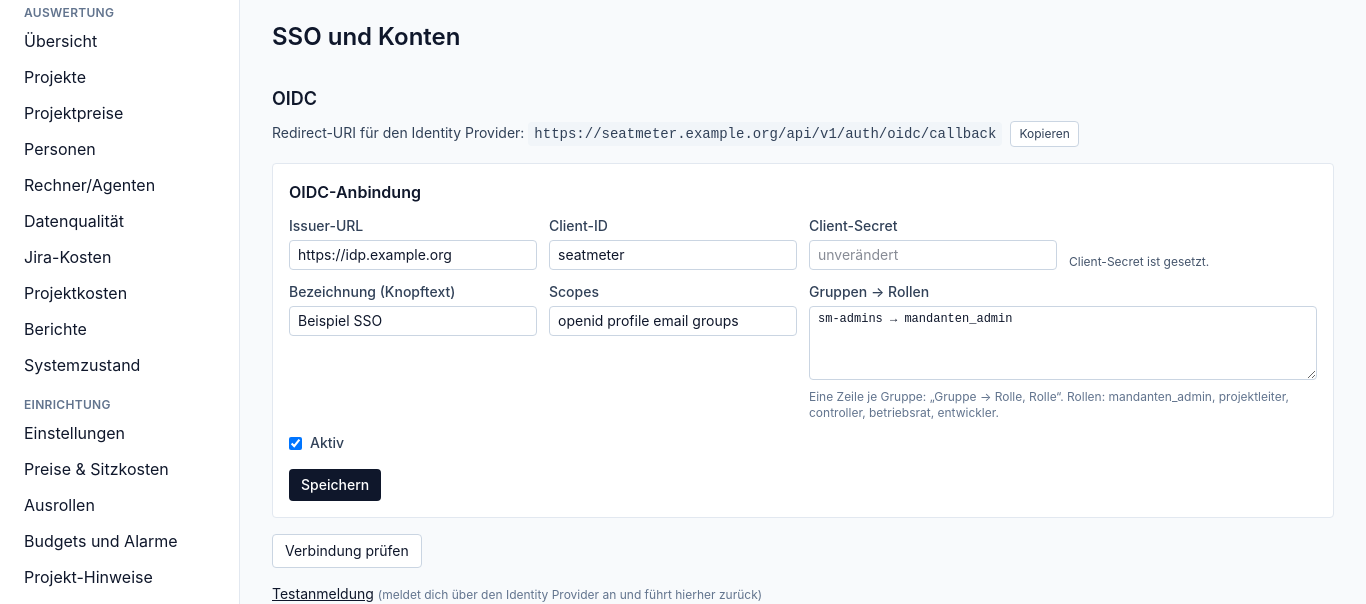
SSO und Konten › OIDC speichern: Secret geht hin, kommt nicht zurück; Verbindung prüfen zeigt Endpunkte
Expected: the text "Client-Secret ist gesetzt." is shown, [1069,254,1209,269]
Expected: the text "https://seatmeter.example.org/api/v1/auth/oidc/callback" is shown, [528,122,1002,146]
Click the button "Speichern" at (335, 485), box [289,469,381,501]
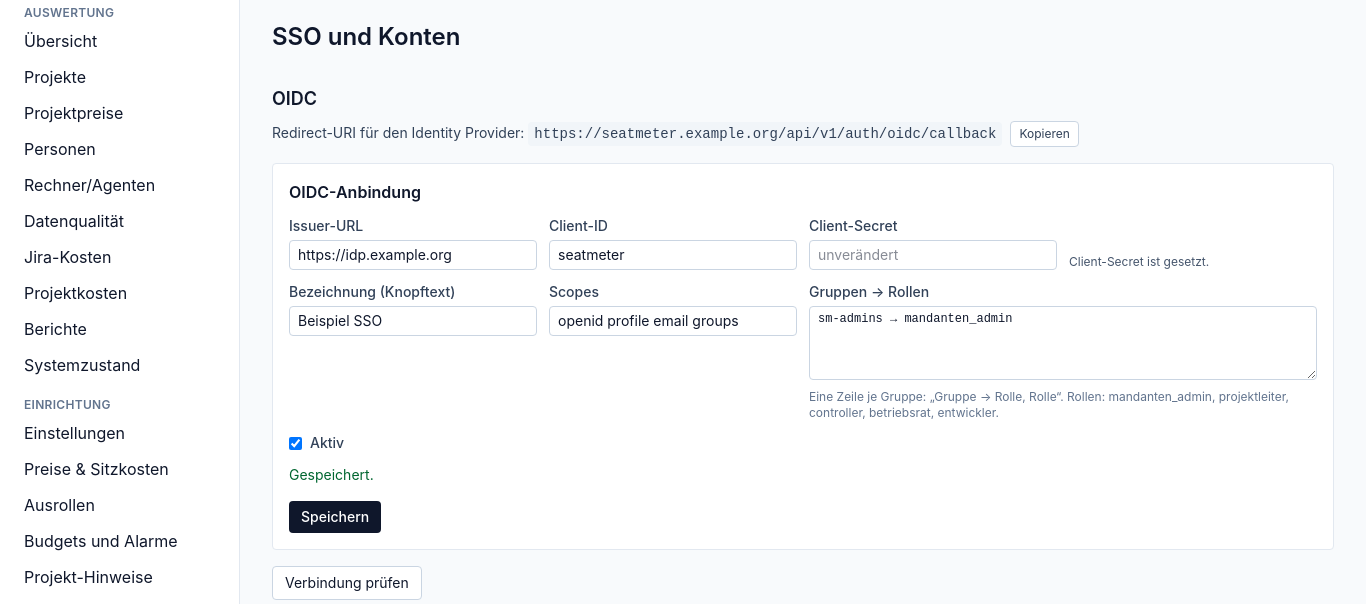
Result: the text "Gespeichert." is shown at [289,466,374,483]
Type "neues-secret" into the password field labelled "Client-Secret" at (933, 255), box [809,240,1057,270]
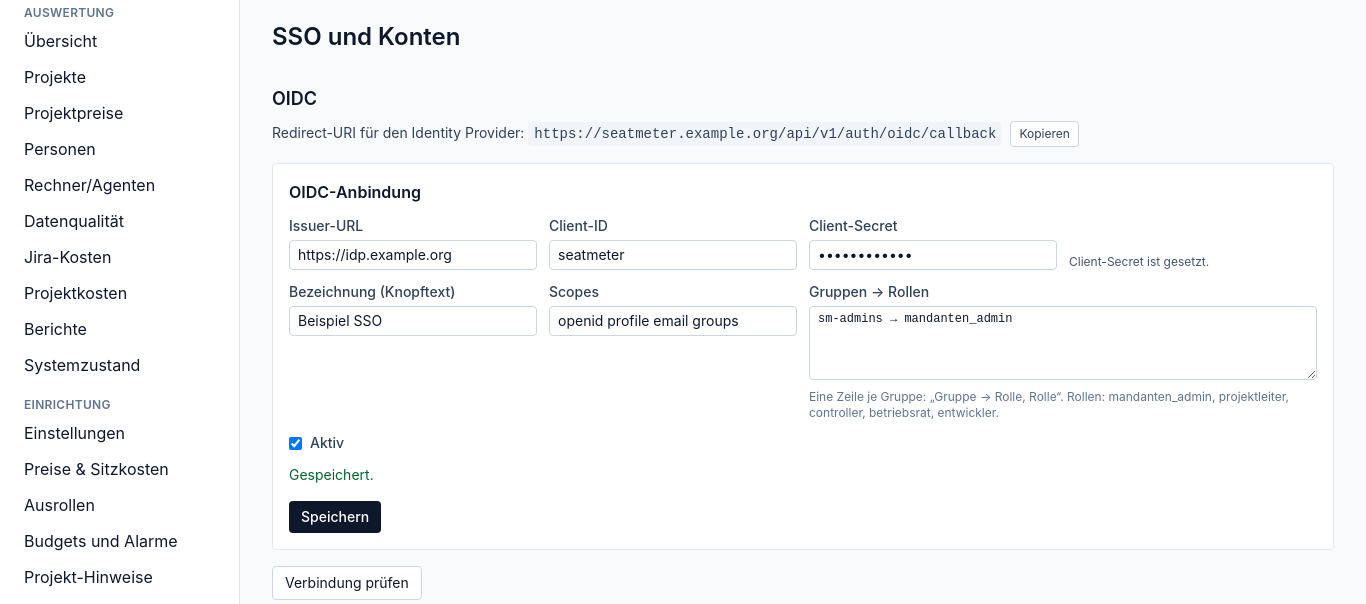
Click the button "Speichern" at (335, 517), box [289,501,381,533]
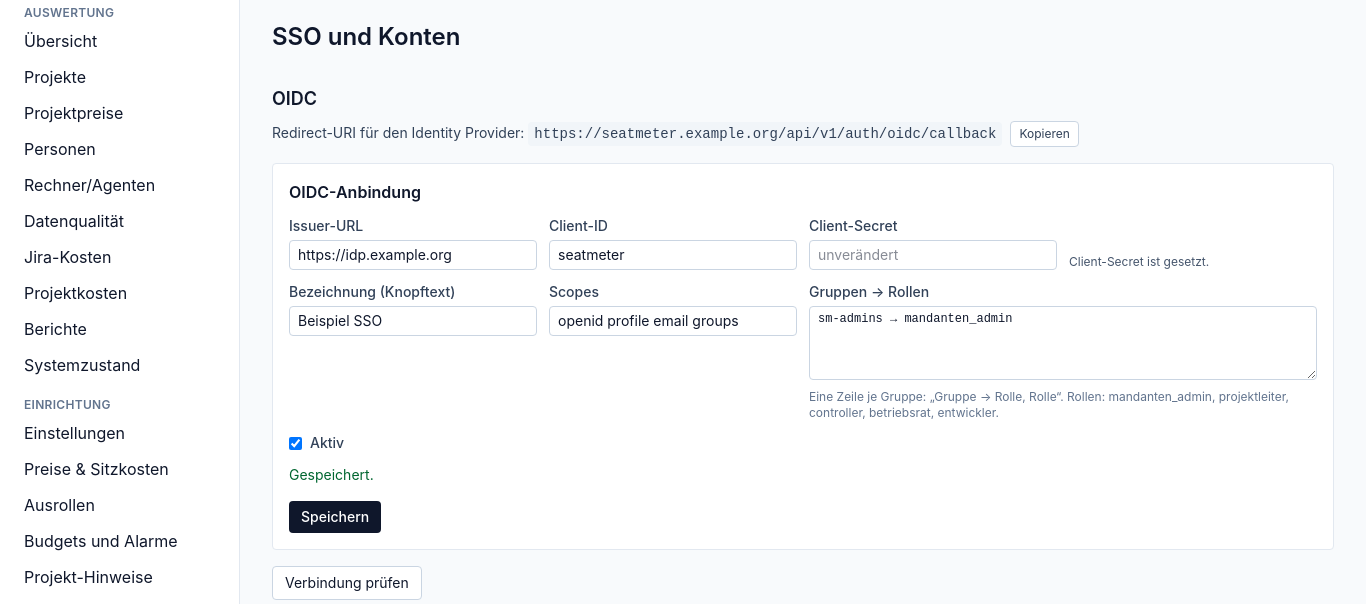
Click the button "Verbindung prüfen" at (347, 583), box [272,566,422,600]
(page scrolled)
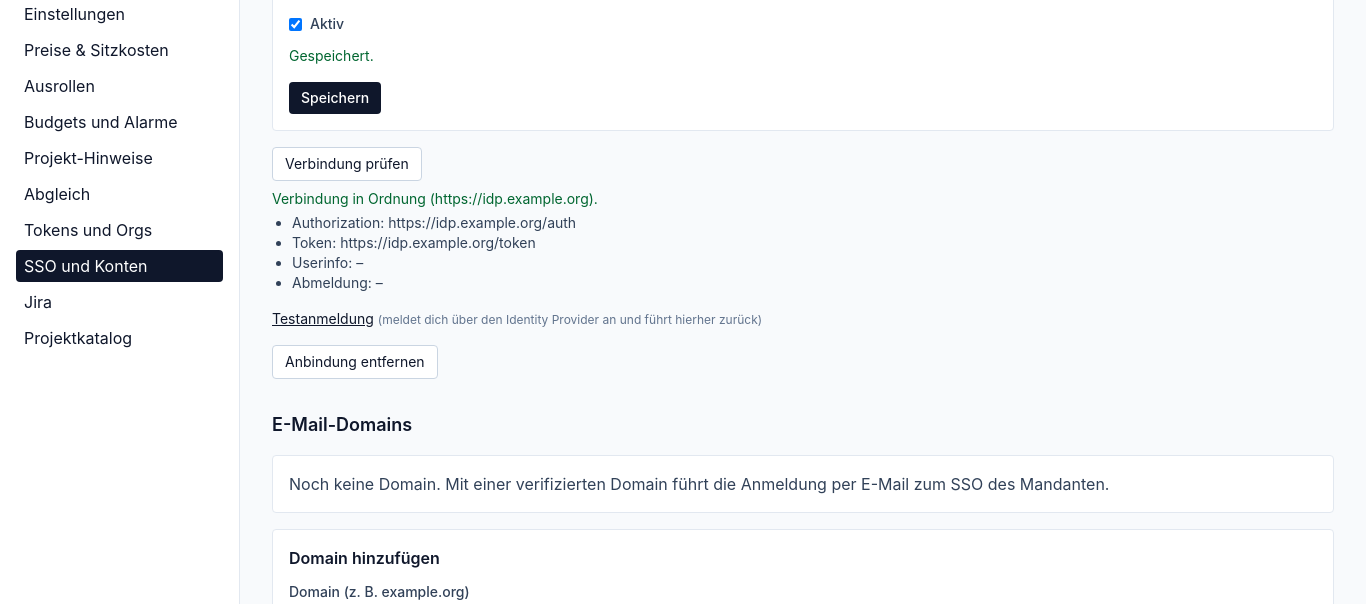
Result: the text "Verbindung in Ordnung (https://idp.example.org)." is shown at [272,190,598,207]
Result: the list item "Authorization: https://idp.example.org/auth" is shown at [292,214,576,231]
